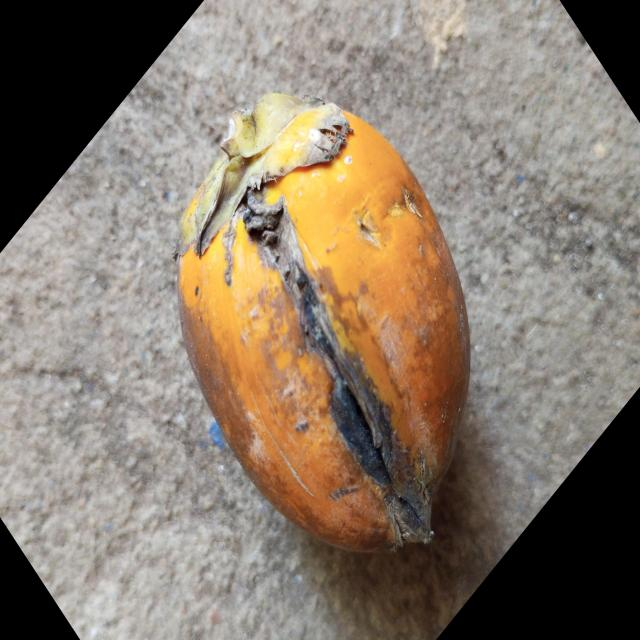damaged: (175, 94, 470, 551)
